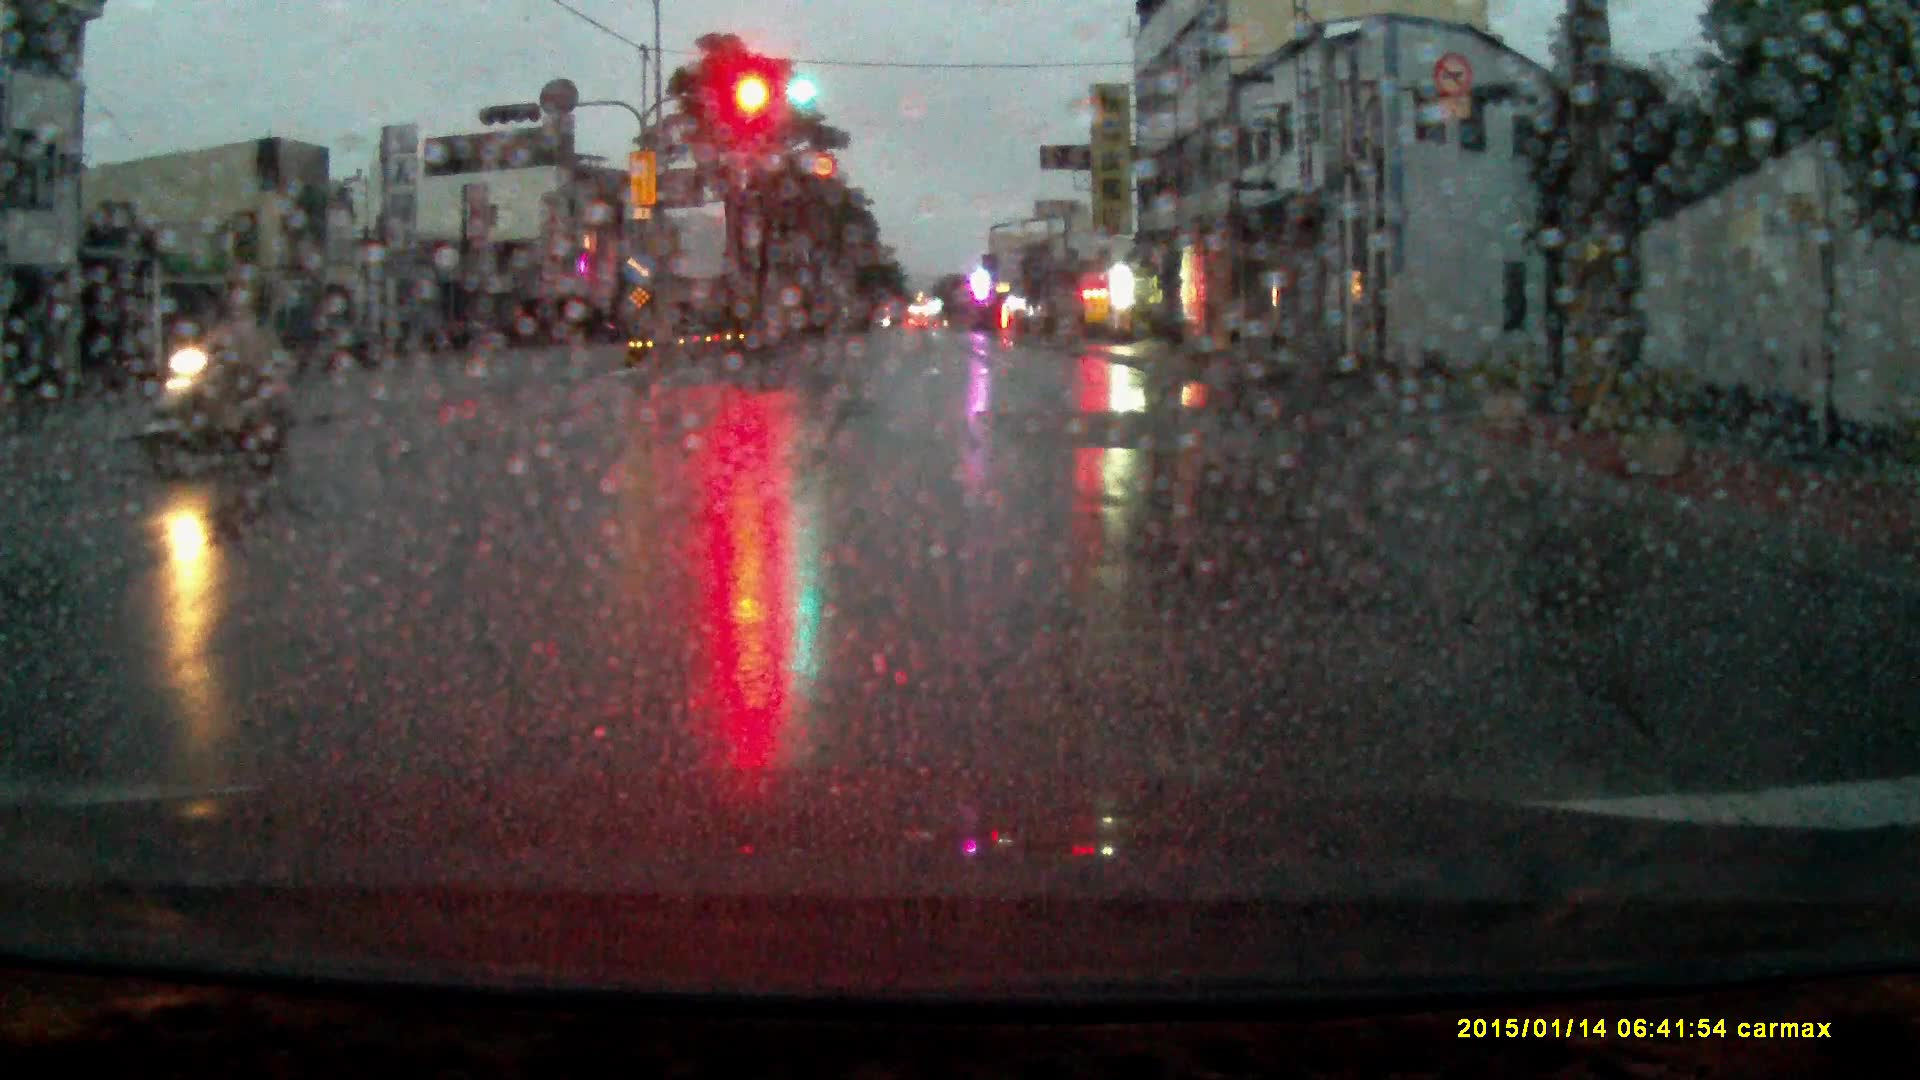rider: (133, 281, 292, 477)
